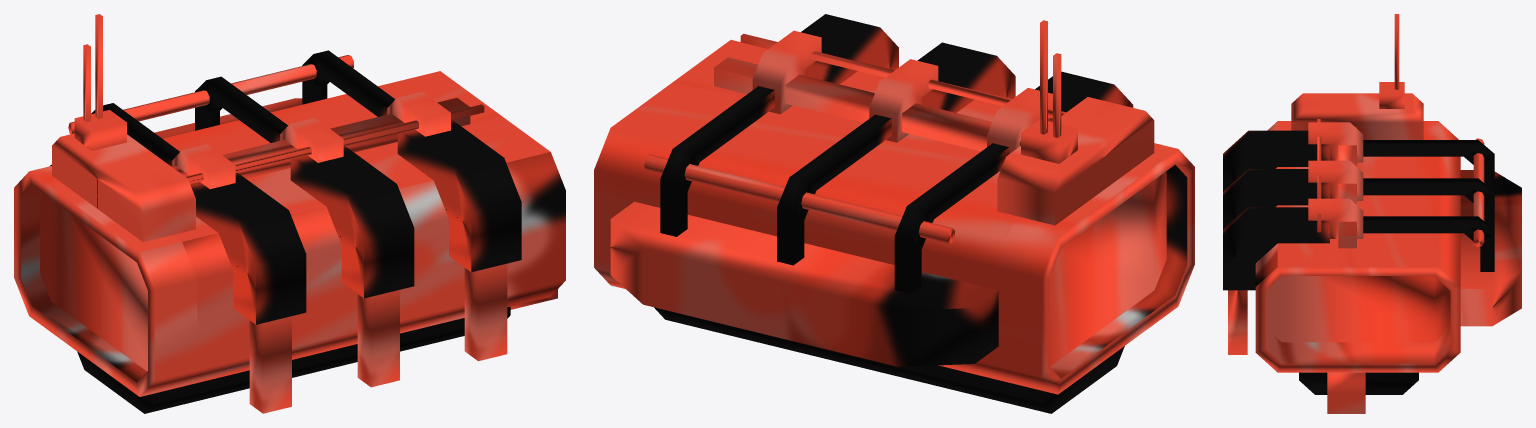
Rendered from muro_smaller.obj.
3 renders of one model, left to right at view 1: azimuth 30°, elevation 25°; view 2: azimuth 150°, elevation 25°; view 3: azimuth 270°, elevation 25°, orthographic. The views are drawn at different scales.
Parts seen in each view (by area): view 1: space_station_4; view 2: space_station_4; view 3: space_station_4.
Part boxes in pixels (<box>): space_station_4: <box>14,14,565,413</box>; space_station_4: <box>594,14,1194,413</box>; space_station_4: <box>1223,14,1521,413</box>.
Size of the model in its own units: 4.86 by 3.64 by 3.82.
